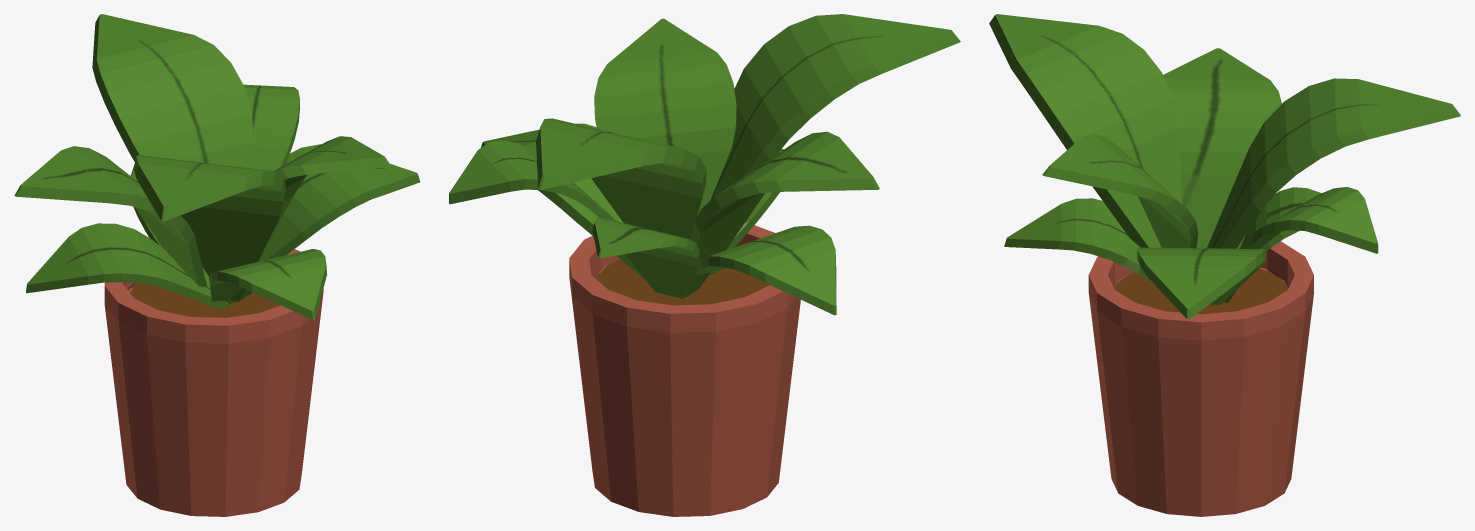
Rendered from MACETA.fbx.
3 renders of one model, left to right at view 1: azimuth 30°, elevation 25°; view 2: azimuth 150°, elevation 25°; view 3: azimuth 270°, elevation 25°, orthographic. The views are drawn at different scales.
Visible parts, largest first — view 1: Cylinder, Plane.007, Plane.002, Plane.008, Plane.001, Plane.005, Plane.003, Plane.006, Plane.004; view 2: Cylinder, Plane.002, Plane.004, Plane.007, Plane.001, Plane.008, Plane, Plane.006, Plane.005, Plane.003; view 3: Cylinder, Plane.002, Plane.007, Plane.001, Plane.004, Plane.005, Plane.003, Plane.006, Plane.
Part boxes in pixels (left/top/right/bottom): Cylinder: left=104, top=249, right=323, bottom=516; Plane.007: left=92, top=14, right=253, bottom=276; Plane.002: left=134, top=155, right=285, bottom=301; Plane.008: left=26, top=223, right=232, bottom=309; Plane.001: left=14, top=146, right=207, bottom=286; Plane.005: left=258, top=144, right=420, bottom=261; Plane.003: left=209, top=249, right=327, bottom=319; Plane.006: left=240, top=84, right=299, bottom=300; Plane.004: left=227, top=136, right=390, bottom=304; Cylinder: left=569, top=225, right=800, bottom=516; Plane.002: left=710, top=14, right=960, bottom=200; Plane.004: left=594, top=18, right=736, bottom=215; Plane.007: left=536, top=118, right=706, bottom=239; Plane.001: left=685, top=131, right=879, bottom=297; Plane.008: left=695, top=225, right=836, bottom=315; Plane: left=592, top=217, right=699, bottom=298; Plane.006: left=449, top=140, right=617, bottom=221; Plane.005: left=481, top=123, right=645, bottom=280; Plane.003: left=706, top=149, right=783, bottom=278; Cylinder: left=1088, top=241, right=1313, bottom=516; Plane.002: left=989, top=14, right=1181, bottom=247; Plane.007: left=1207, top=78, right=1460, bottom=248; Plane.001: left=1163, top=48, right=1281, bottom=248; Plane.004: left=1042, top=133, right=1198, bottom=248; Plane.005: left=1137, top=247, right=1266, bottom=319; Plane.003: left=1004, top=198, right=1153, bottom=283; Plane.006: left=1239, top=187, right=1378, bottom=253; Plane: left=1224, top=187, right=1321, bottom=302.
Bounding box in the file's own units: 125 × 118 × 129.
Materials: 10 (10 with a texture image).
